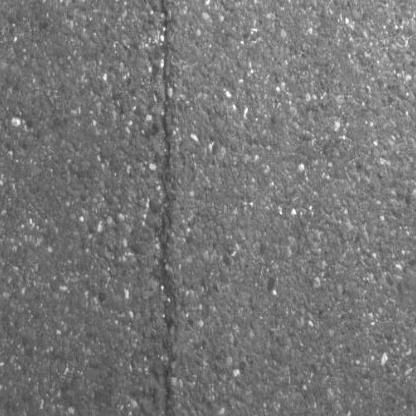Cracks: (153, 0, 181, 416)
